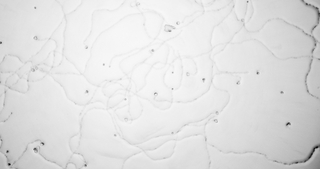germinated: (235, 75, 242, 86), (241, 16, 248, 27), (37, 137, 45, 146), (152, 90, 159, 100), (32, 34, 42, 41), (185, 70, 196, 76), (30, 68, 41, 74), (82, 41, 89, 50), (32, 145, 39, 154), (209, 118, 219, 124), (208, 109, 218, 115), (31, 62, 39, 69), (134, 1, 141, 9), (175, 20, 183, 26), (124, 116, 133, 121)
nongerminated: (278, 89, 285, 95), (200, 76, 207, 82), (111, 132, 117, 139), (150, 47, 156, 53), (83, 88, 90, 93), (6, 161, 11, 168), (255, 70, 260, 76), (101, 62, 106, 68), (4, 148, 10, 153)
